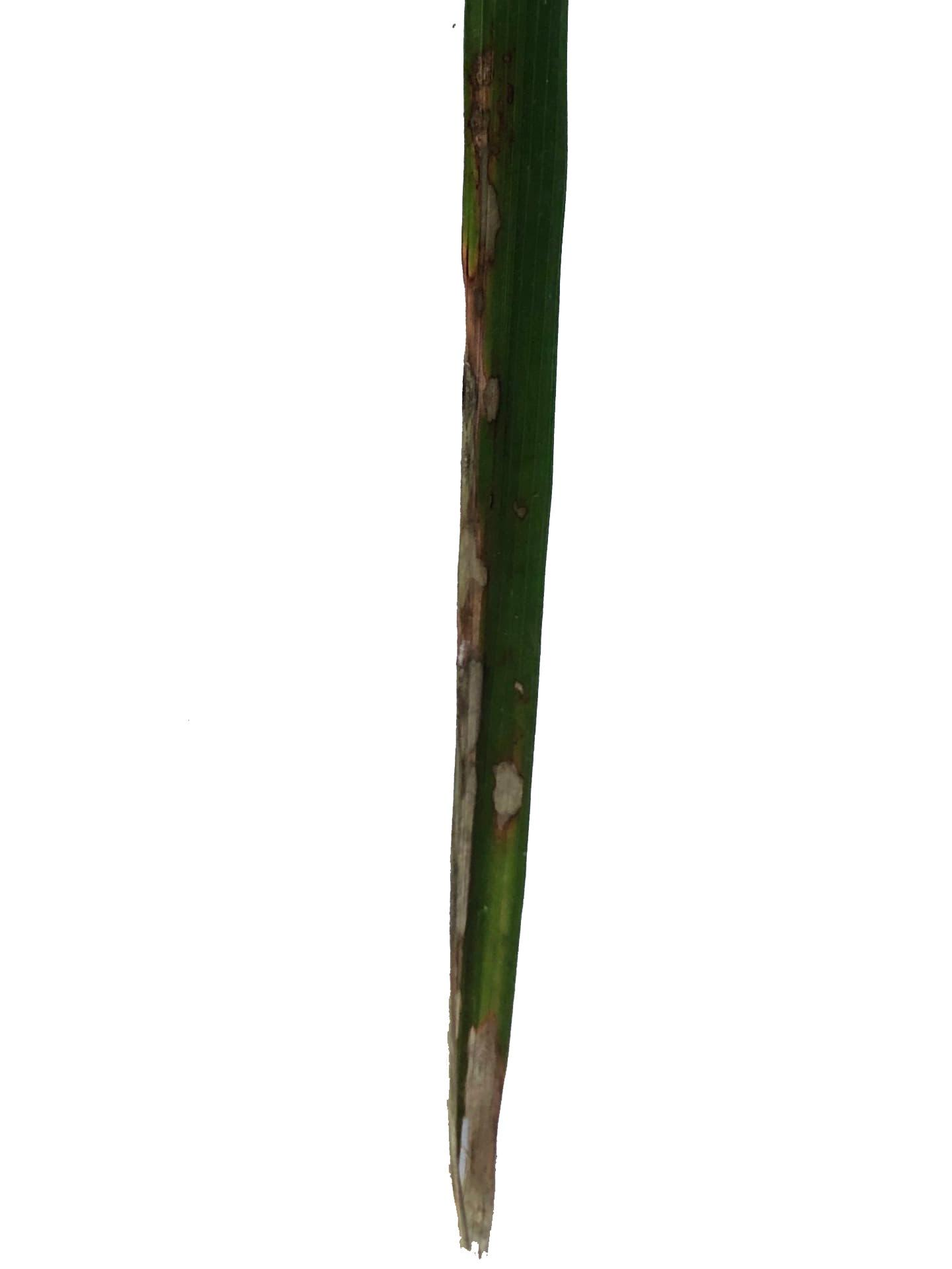Blight: (476, 717, 532, 846)
